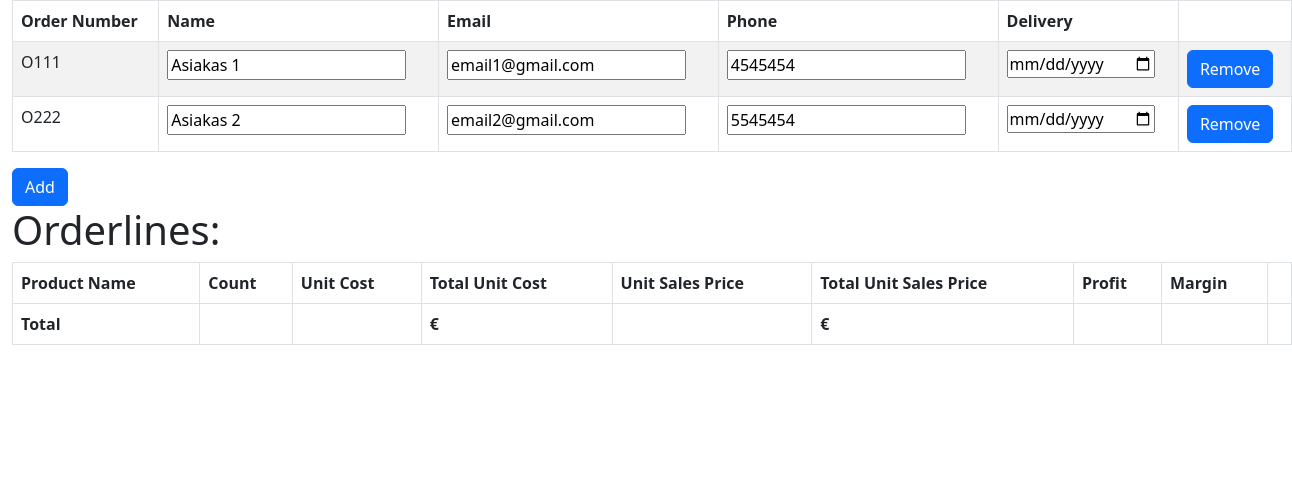
Test: OrderAPI vol 2 › should render grid with all products
Expected: the number of rows with test id "order-row" is 2, [12, 42, 1291, 96]; [12, 96, 1291, 152]
Expected: the text "O111" is shown, [12, 42, 159, 96]
Click the text "O222" at (86, 124), box [12, 96, 159, 152]
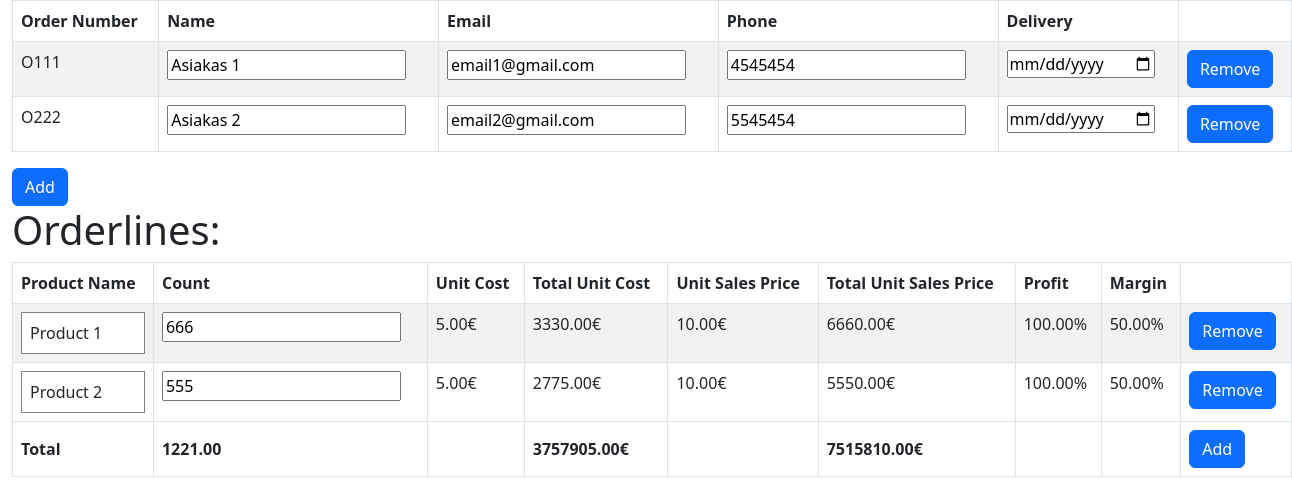
Now the number of rows with test id "orderline-row" is 2, box [12, 304, 1291, 362]; [12, 362, 1291, 422]
Leave the number field with test id "orderline-row-count-4", box [162, 371, 401, 401]
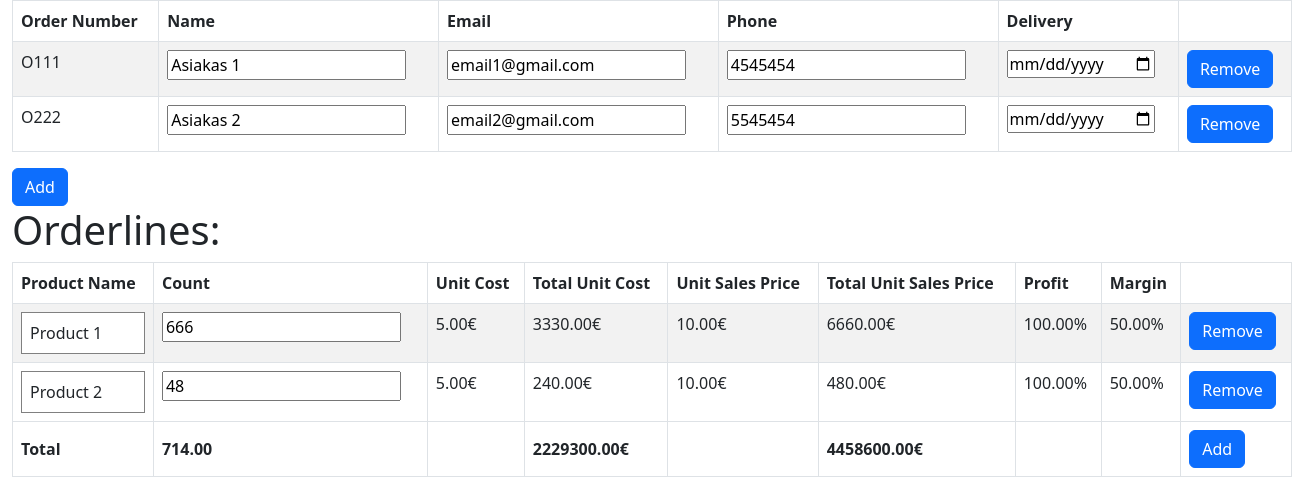
Now the number field showing "48" next to "Product 2" is shown, box [162, 371, 401, 401]
Now the text "240.00€" is shown, box [524, 362, 668, 422]
Now the text "480.00€" is shown, box [818, 362, 1015, 422]
